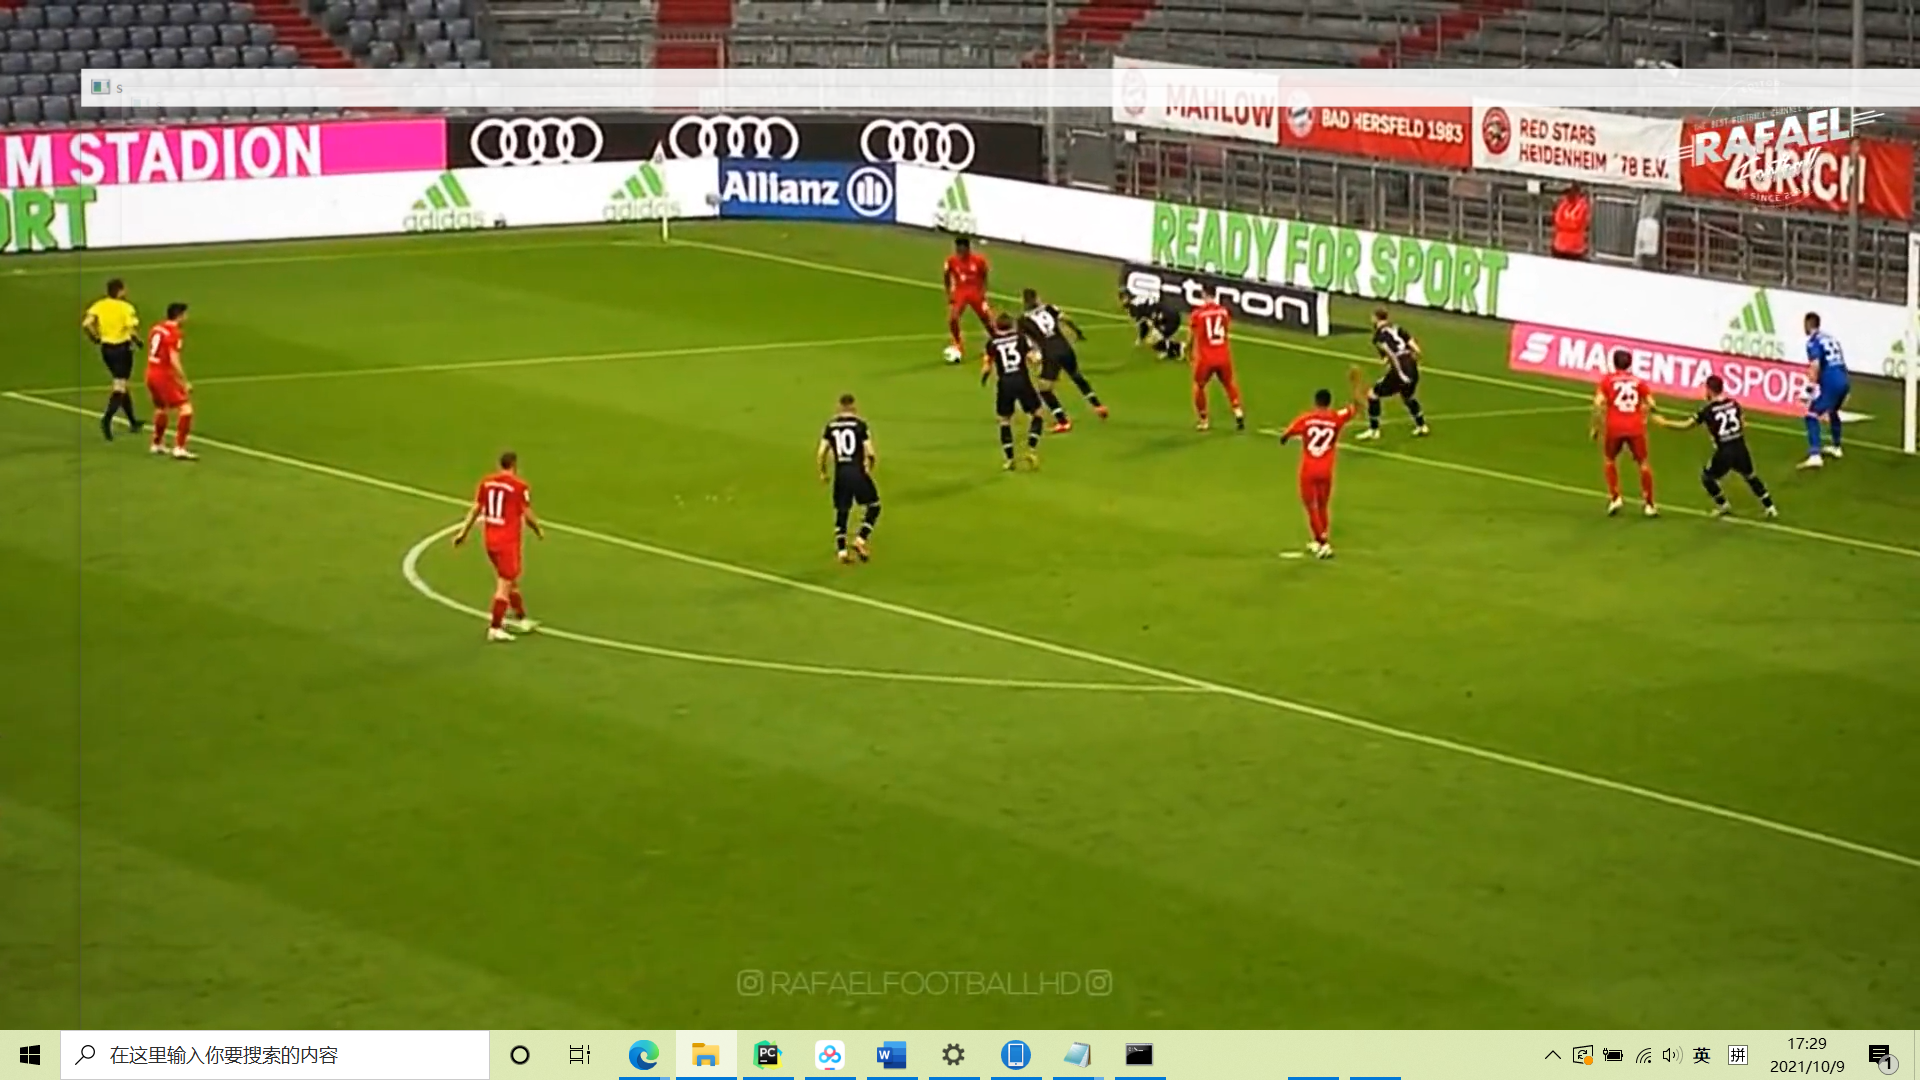ft: (942, 345, 963, 367)
